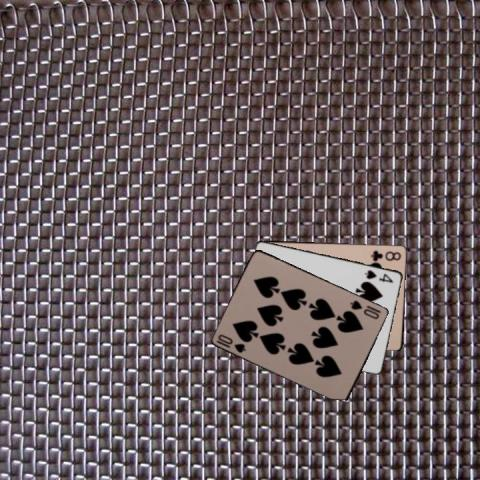10s: (348, 297, 381, 321), (214, 331, 248, 354)
4s: (362, 267, 395, 284)
8c: (368, 248, 402, 261)
